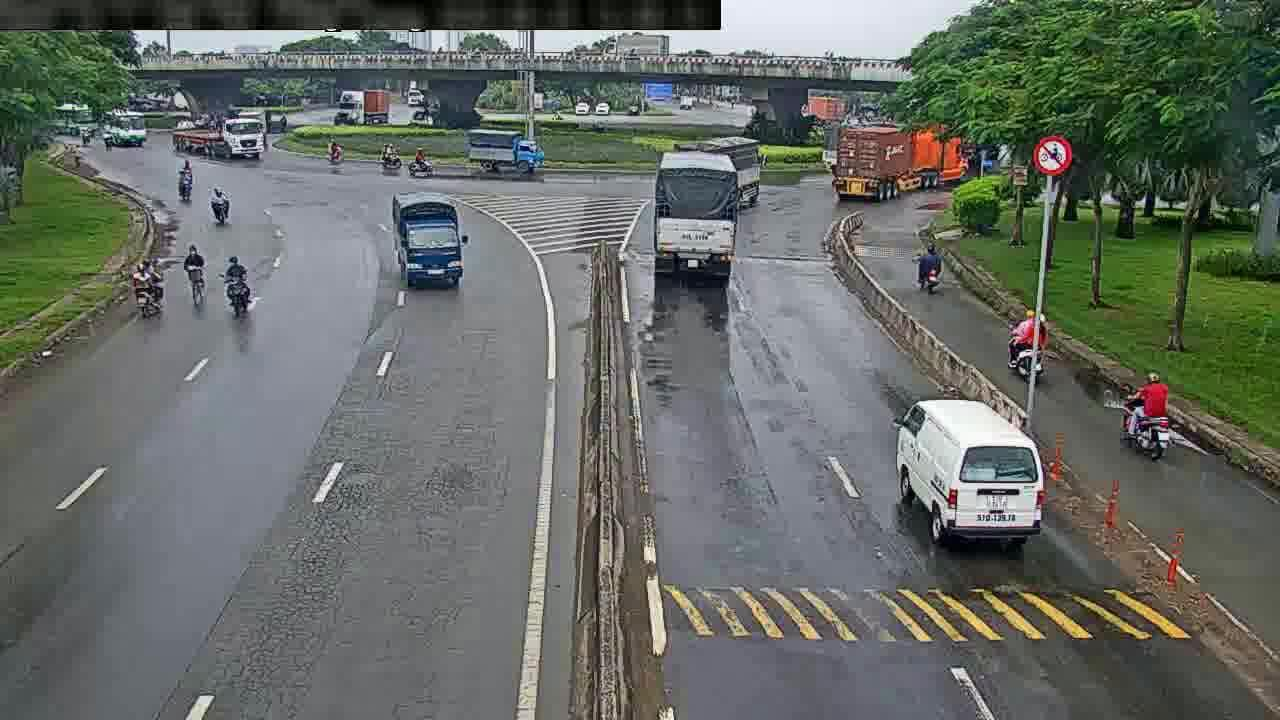14: (892, 387, 1050, 548)
8: (647, 147, 740, 277), (386, 191, 472, 290), (167, 108, 276, 161), (673, 139, 770, 191), (463, 124, 545, 169)
motorbike: (1120, 372, 1170, 455), (1009, 314, 1054, 384), (224, 254, 252, 323), (913, 242, 946, 298), (136, 254, 163, 318), (208, 183, 233, 230)
